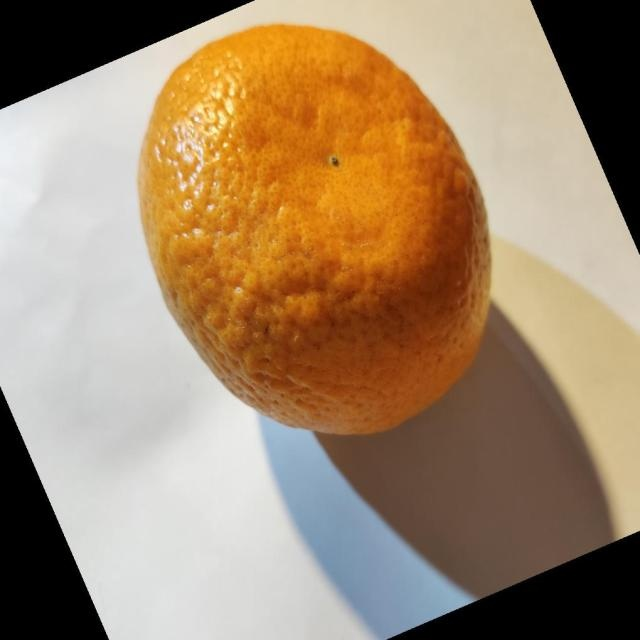agrume: (136, 22, 493, 436)
